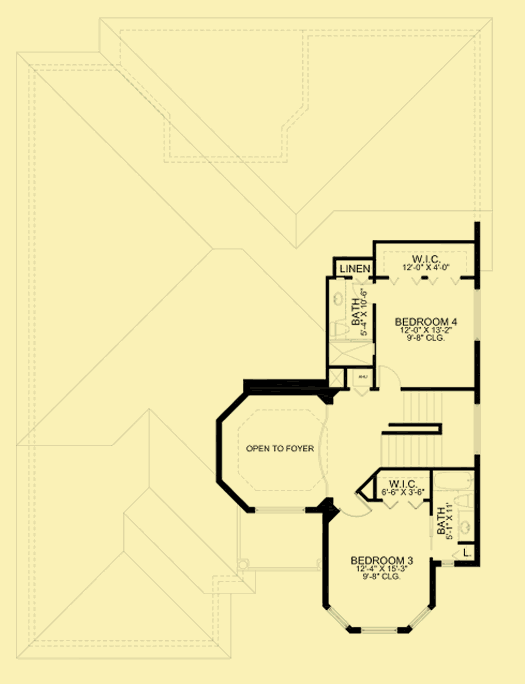door: (337, 491, 374, 525), (374, 360, 405, 390)
large_sink: (449, 492, 477, 509), (327, 320, 351, 338)
small_sink: (328, 279, 348, 323)
stairs: (377, 387, 461, 471)
tub: (430, 466, 477, 492)
window: (328, 603, 429, 639), (470, 287, 485, 342), (471, 400, 483, 457), (248, 506, 313, 516)
